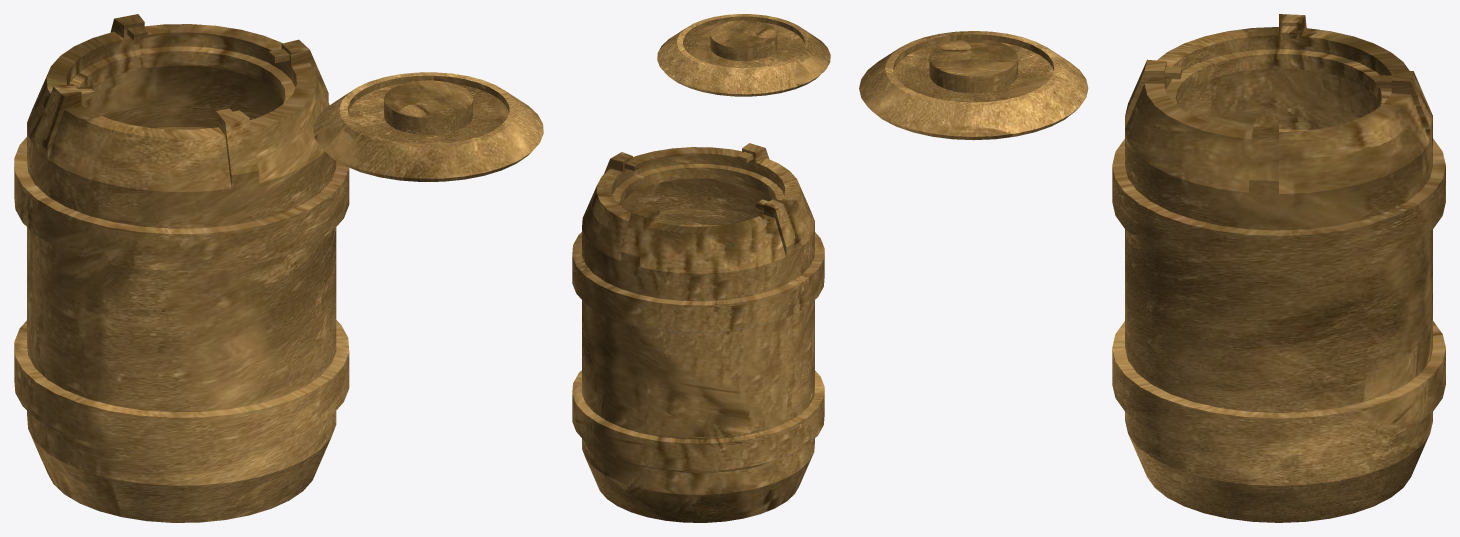
3 renders of one model, left to right at view 1: azimuth 30°, elevation 25°; view 2: azimuth 150°, elevation 25°; view 3: azimuth 270°, elevation 25°, orthographic. The views are drawn at different scales.
Visible parts, largest first — view 1: Tube, Lid; view 2: Tube, Lid; view 3: Tube, Lid.
Part boxes in pixels (x1,y1,x2,y2): Tube: (14, 14, 349, 522); Lid: (313, 72, 543, 181); Tube: (572, 143, 824, 522); Lid: (657, 14, 830, 96); Tube: (1112, 14, 1445, 522); Lid: (859, 31, 1088, 140).
Bounding box in the file's own units: 2.52 × 3.25 × 3.81.
2 materials, 2 textured.
